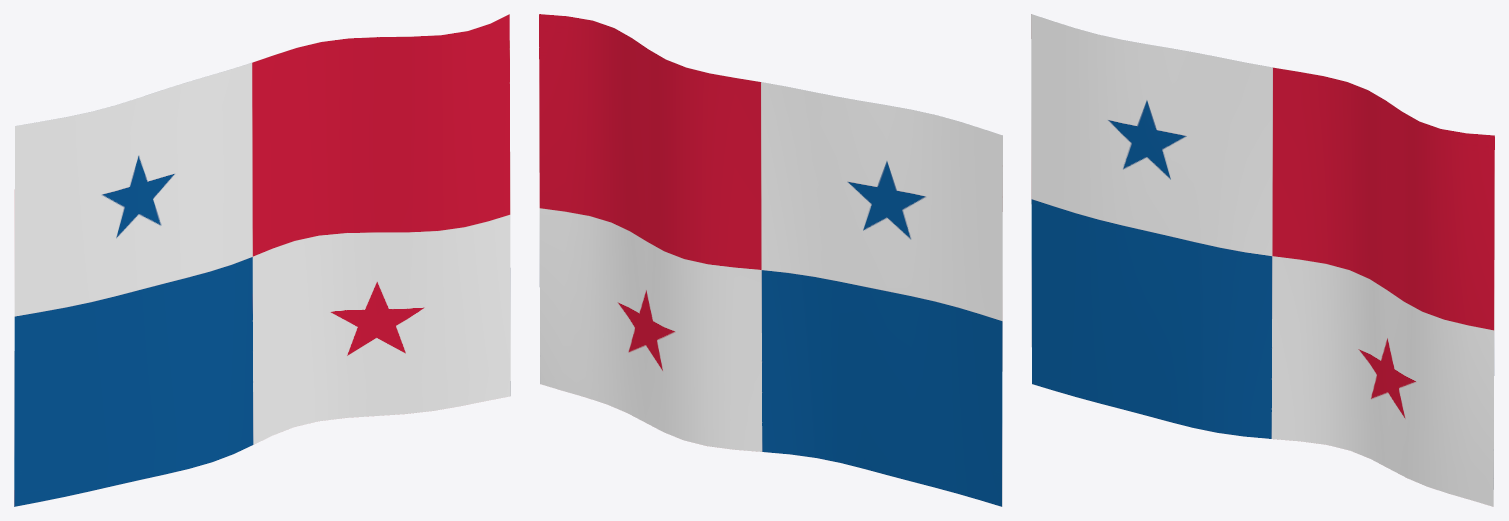
The model's file is PA_Panama.glb.
The picture shows the model from 3 angles, left to right: view 1: azimuth 30°, elevation 25°; view 2: azimuth 150°, elevation 25°; view 3: azimuth 330°, elevation 25°; orthographic projection. The views are drawn at different scales.
Visible parts, largest first — view 1: PA_flag; view 2: PA_flag; view 3: PA_flag.
Boxes of the visible parts, x1=… form: PA_flag: x1=14, y1=14, x2=510, y2=506; PA_flag: x1=539, y1=14, x2=1002, y2=506; PA_flag: x1=1031, y1=14, x2=1494, y2=506.
Size of the model in its own units: 1.33 by 1 by 0.1347.
Materials: 1 (1 with a texture image).
